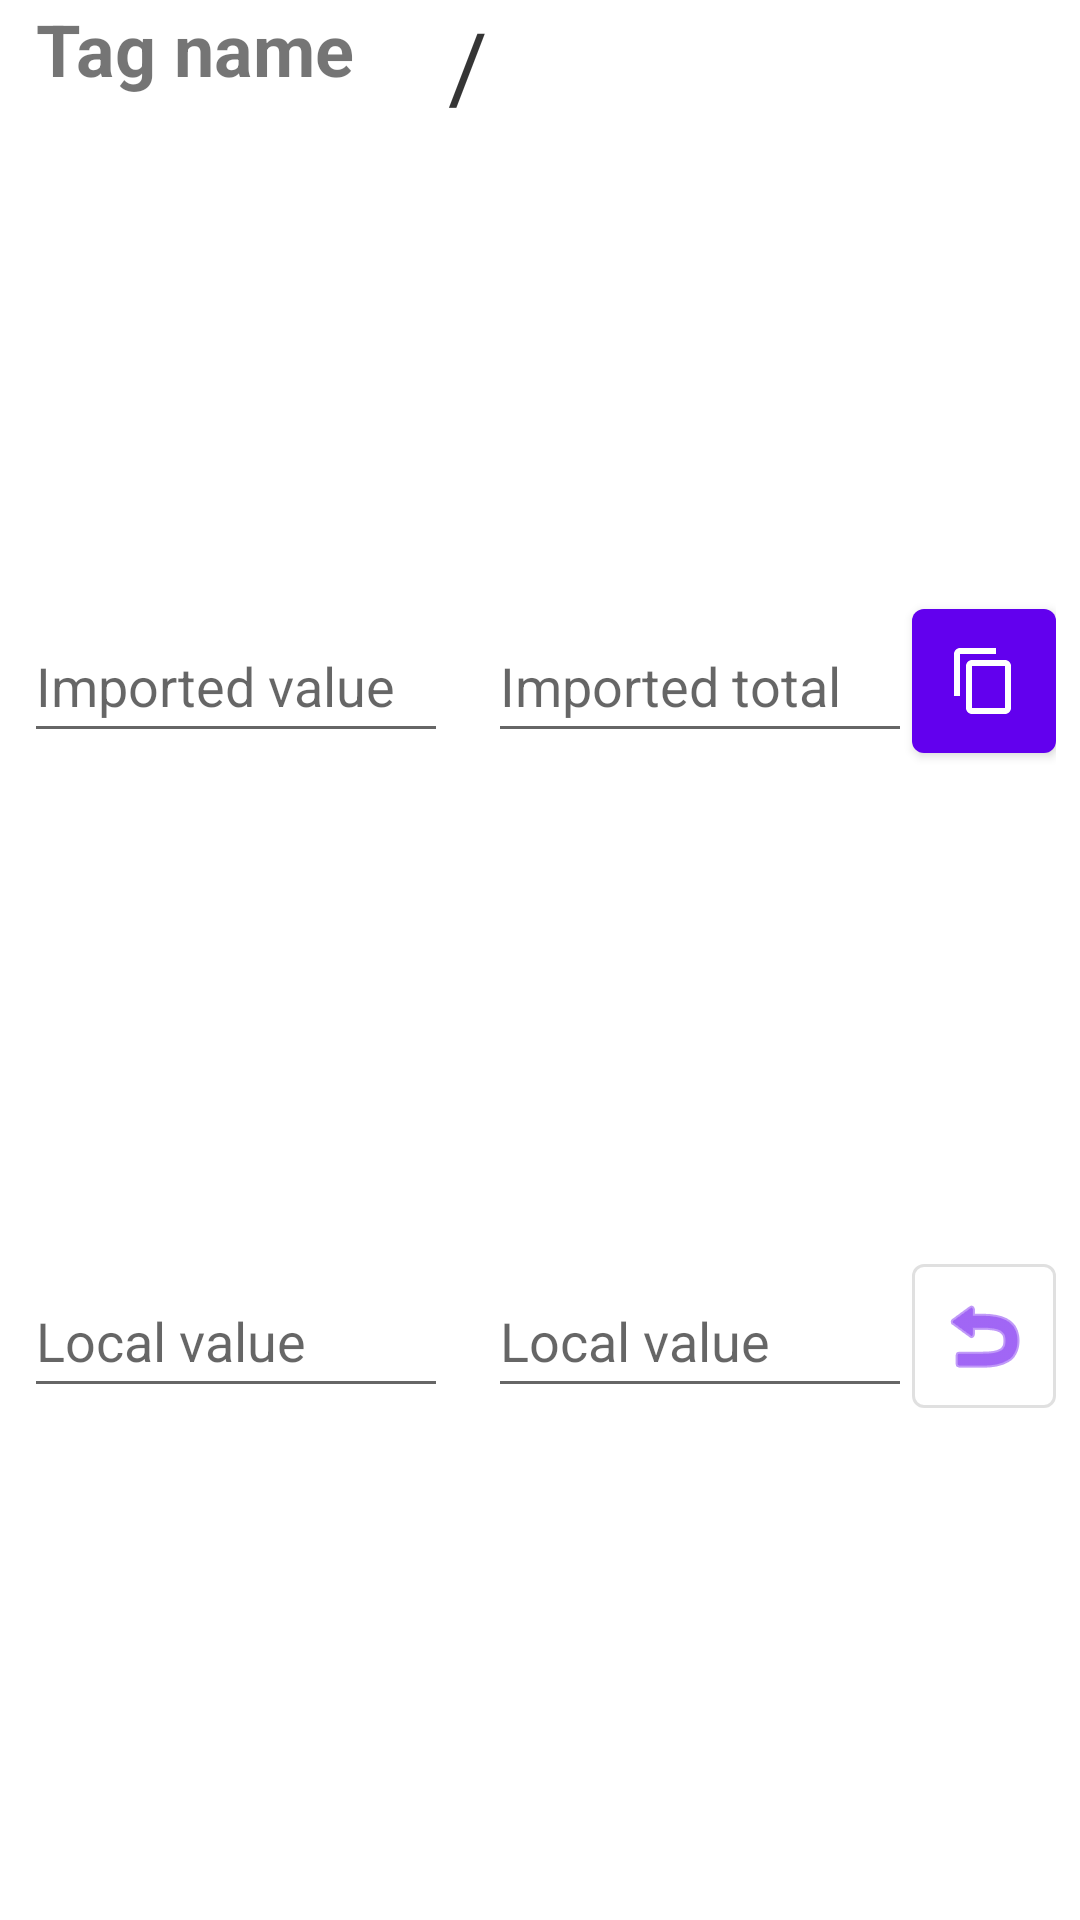

Icon click points for this 1080px x 1920px phone screenshot, format point (x, y):
Replace local value by imported value: point (984, 681)
